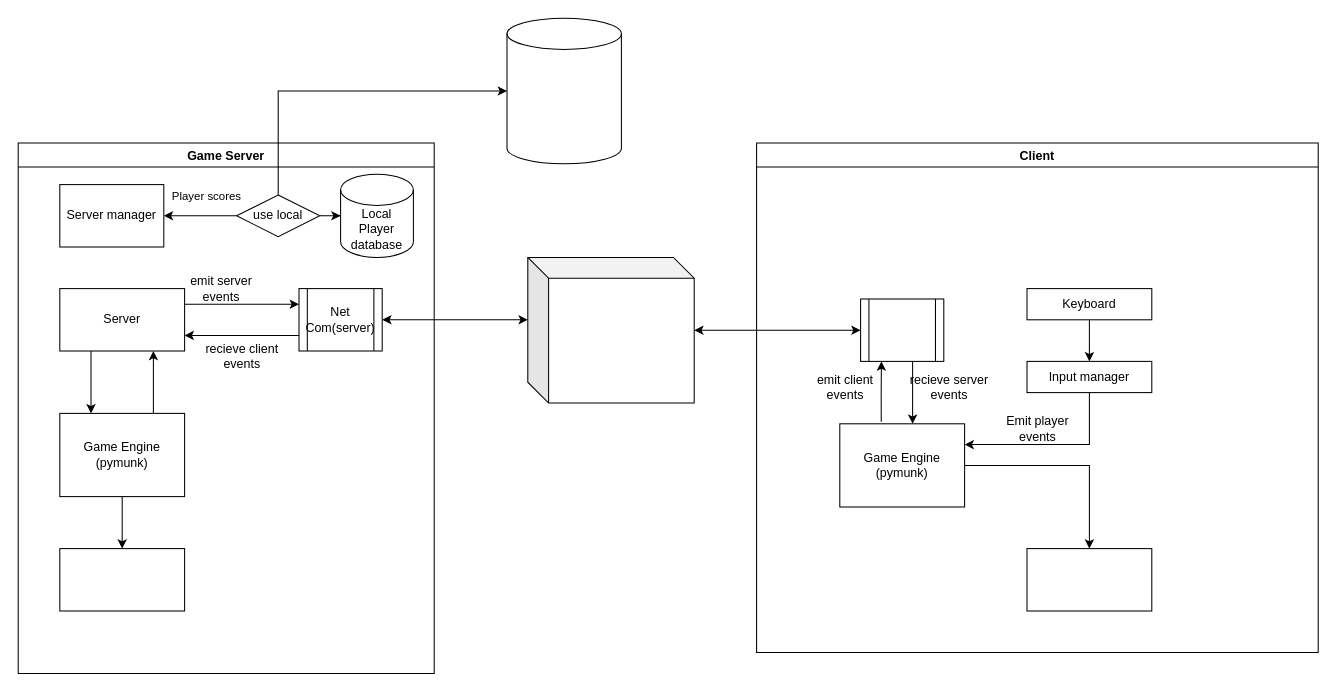
This 1336x692 diagram has some shape labels left out. The centre of each missing label's shape, as x and y in pixels:
"Net Com(client)" belongs at point (902, 329).
"Player database mongo" belongs at point (563, 90).
"PyGame debugger" belongs at point (122, 579).
"Screen" belongs at point (1089, 579).
"The Inernet" belongs at point (610, 329).
